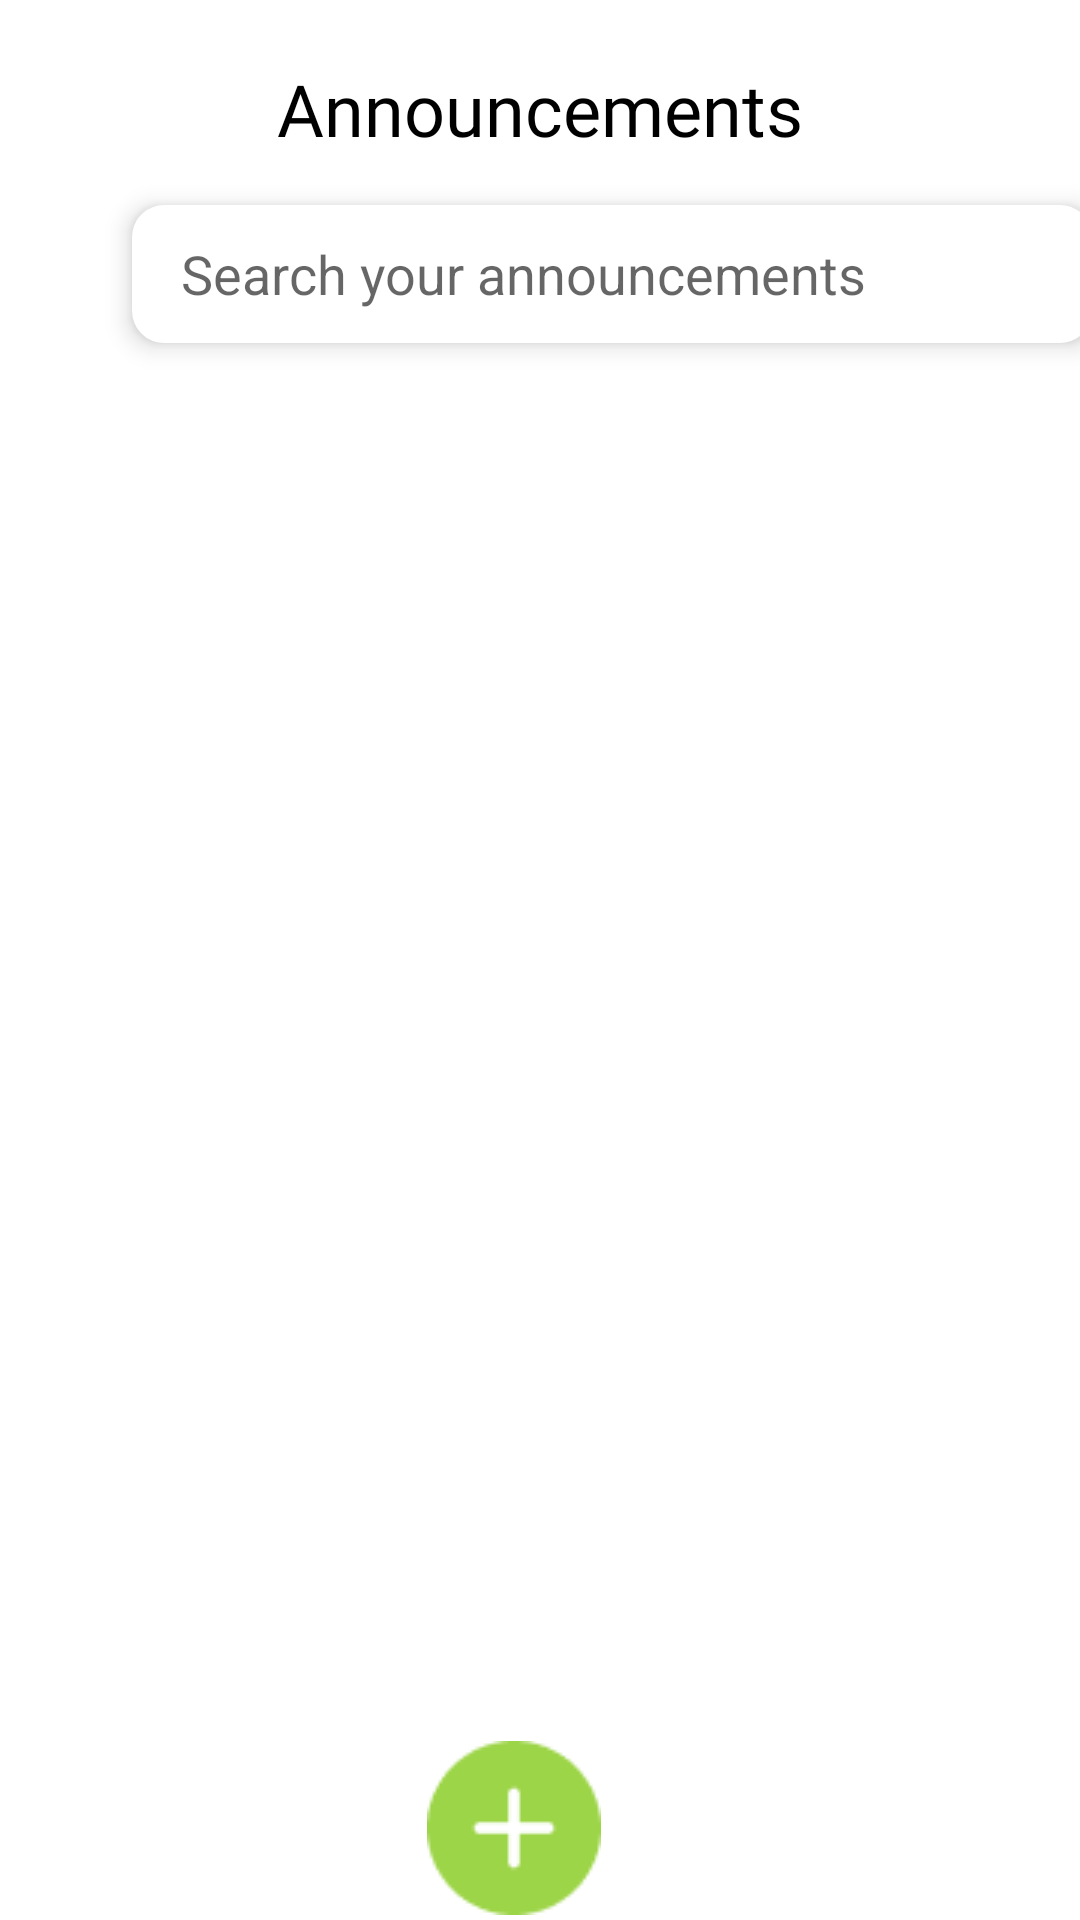

Where icons sit on this 1080x1920 app screen, as bbox(x1, y1, x2, y2):
add: bbox(427, 1741, 601, 1915)
